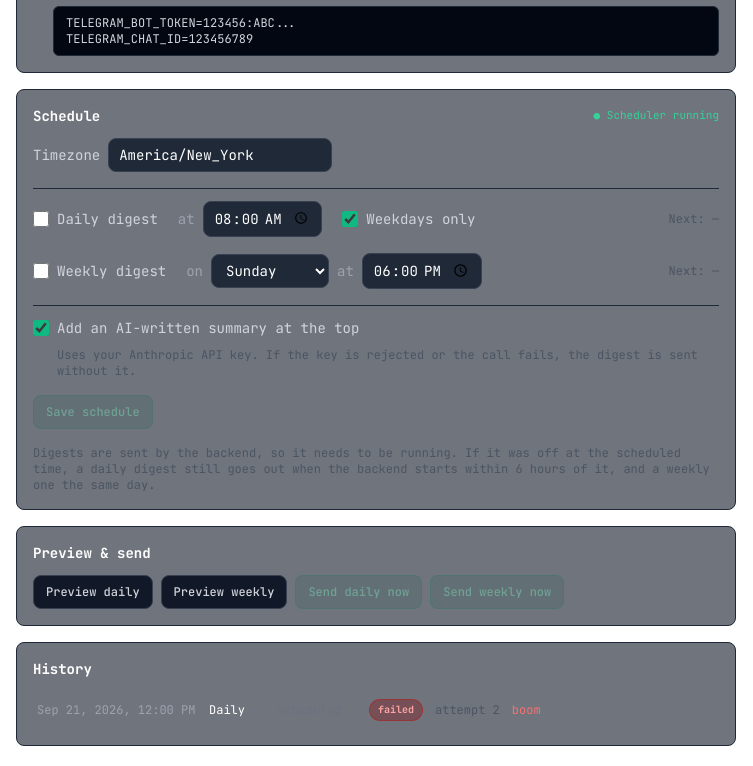
it: DigestCenter › opens a past digest from history
(page scrolled)
Expected: the text "attempt 2" is shown, [435,702,500,718]
Click the text "boom" at (526, 710), box [512,702,541,718]
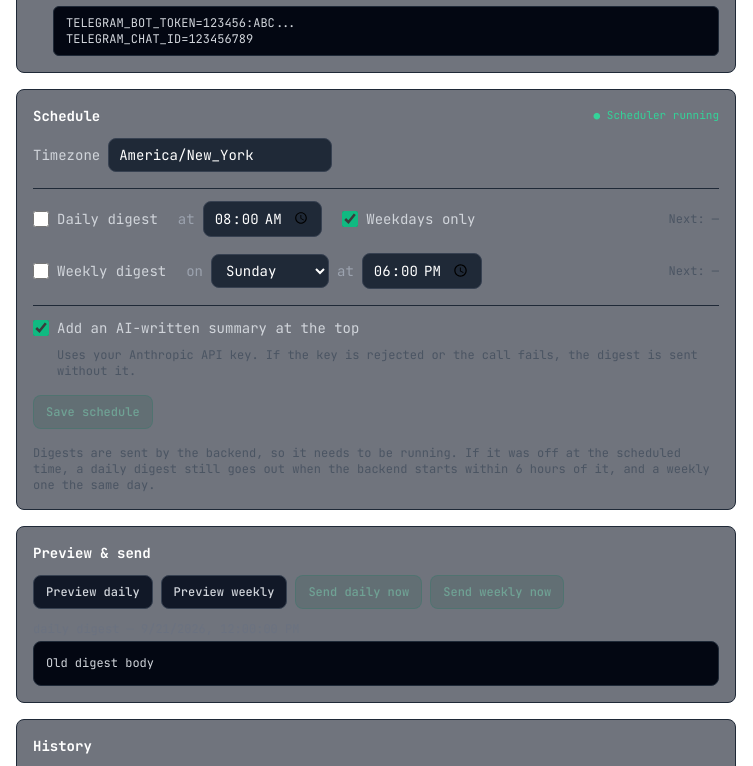
Now the text with test id "digest-output" reads "Old digest body", box [46,654,154,670]
